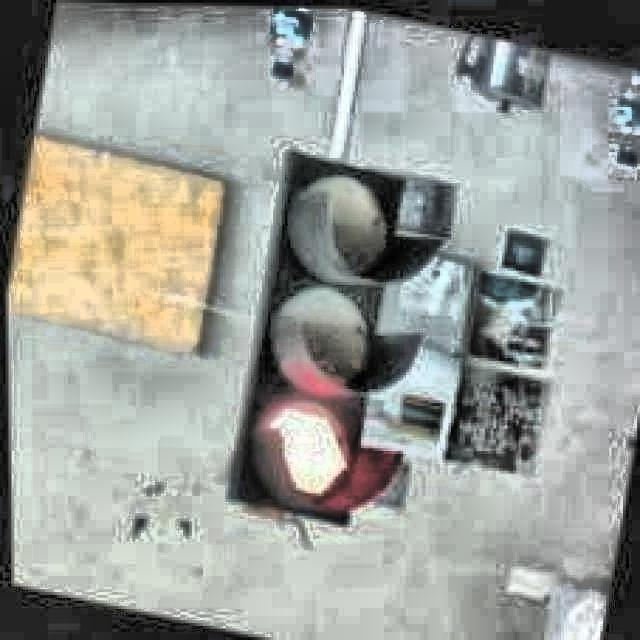red: (256, 145, 422, 525)
